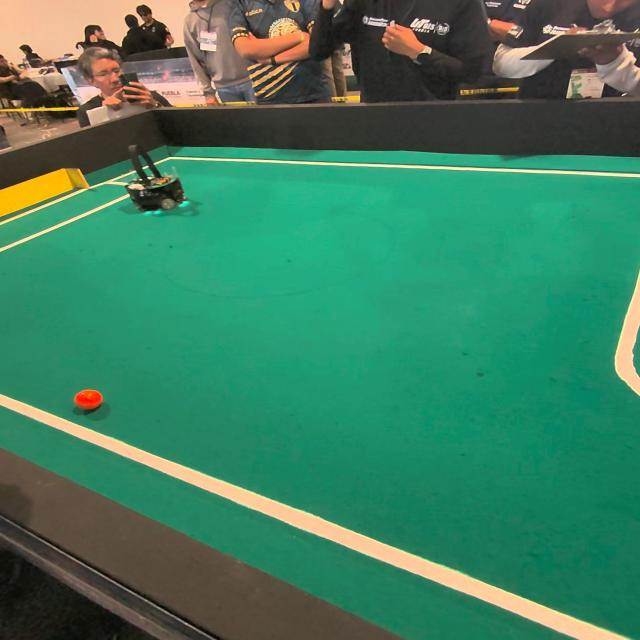Robot: (118, 142, 197, 220)
pelota: (73, 389, 102, 411)
